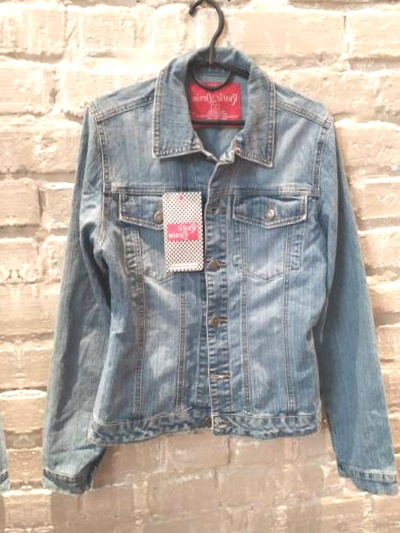Blazer: (12, 38, 388, 508), (0, 60, 17, 530)
